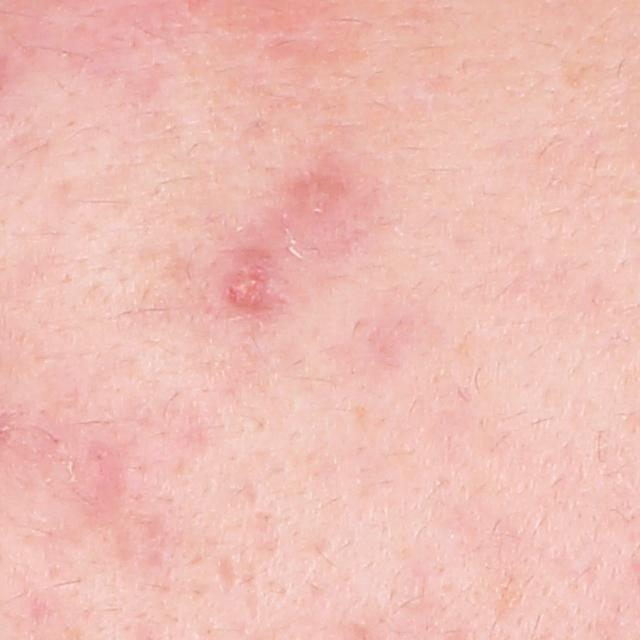atrophic_scar: (217, 552, 237, 599)
papule: (225, 265, 273, 308)
